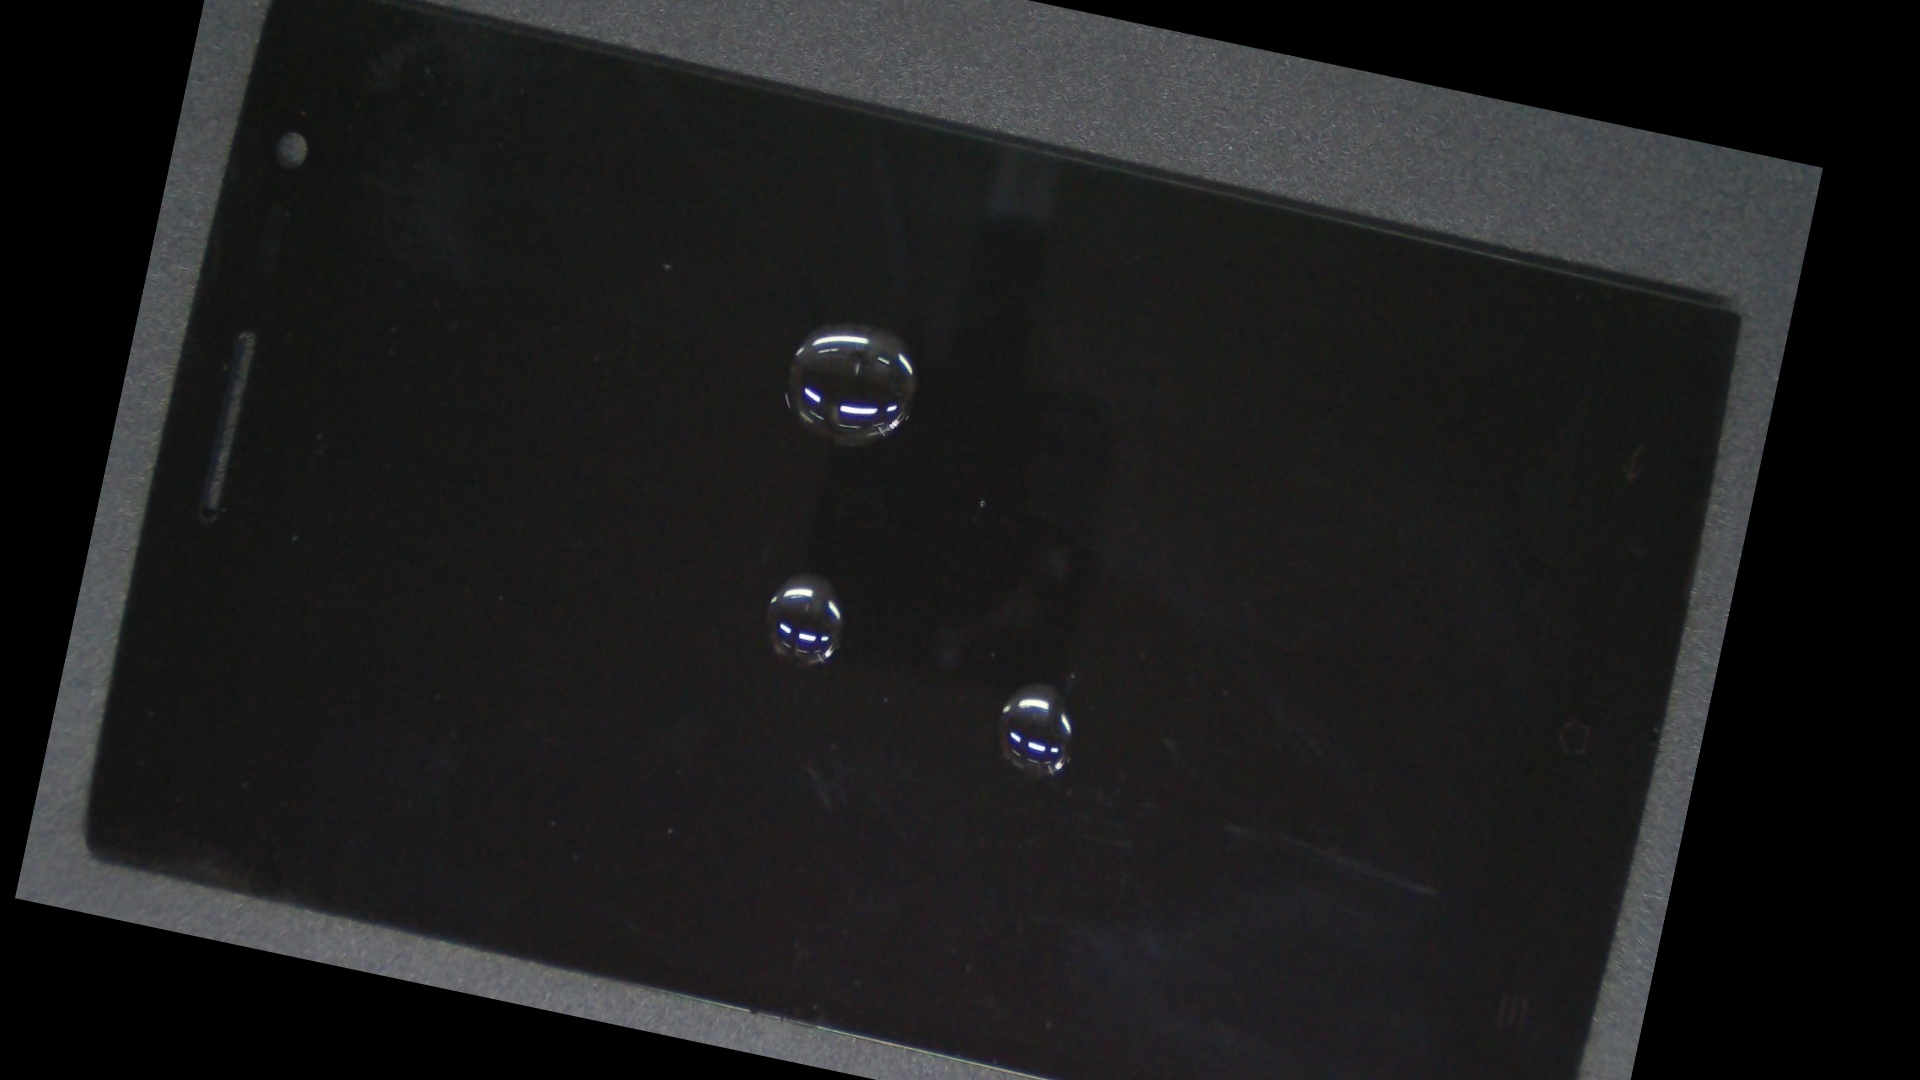oil: (504, 258, 1580, 1080), (404, 203, 1229, 944), (472, 76, 1226, 564)
